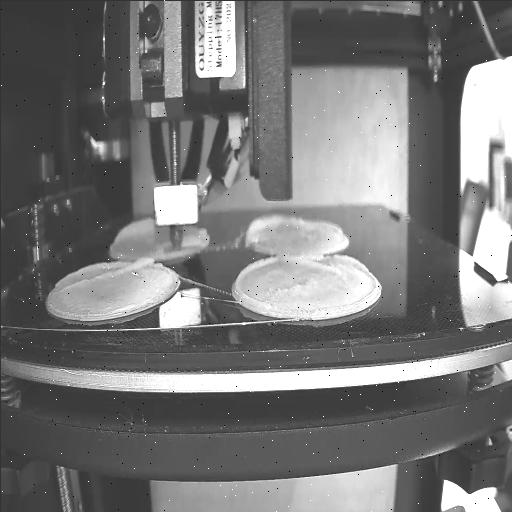over_extrusion: (62, 255, 152, 289), (282, 252, 366, 280), (234, 256, 277, 308), (241, 212, 302, 240), (114, 216, 156, 242), (310, 218, 344, 236)
